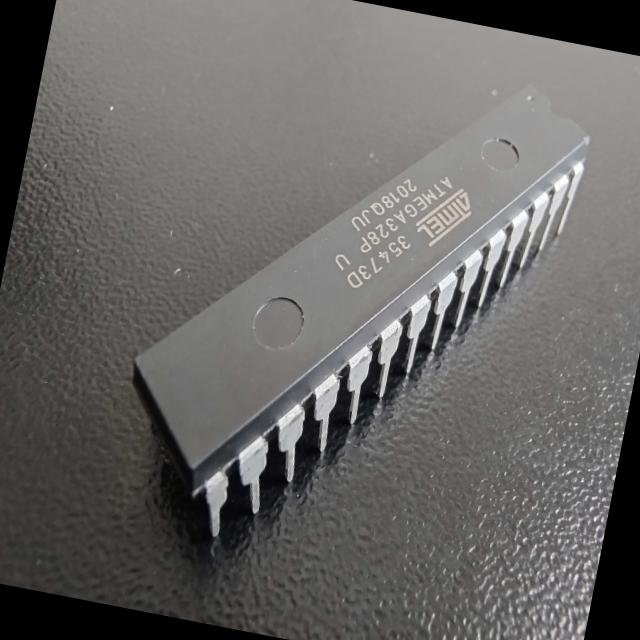atmega: (100, 16, 602, 596)
